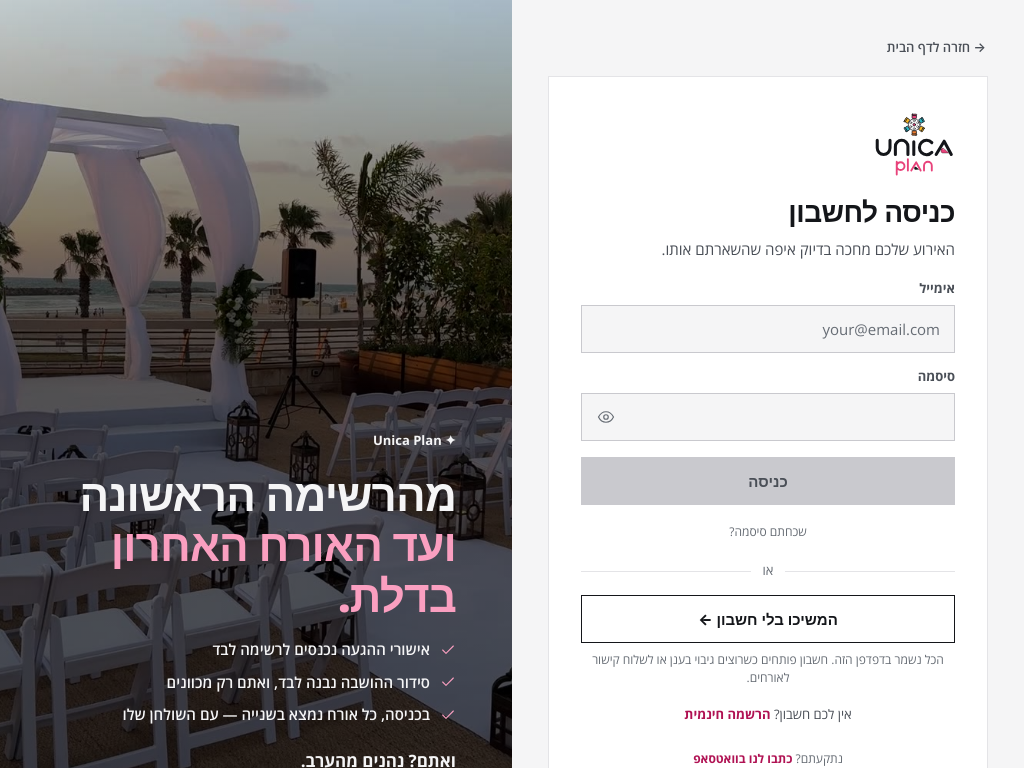
Scenario: LoginScreen errors (37b) › forgot-password rate limit: Hebrew, not GoTrue's English
The width and height of the screenshot is (1024, 768).
Click the button "שכחתם סיסמה?" at (768, 532), box [581,523,955,541]
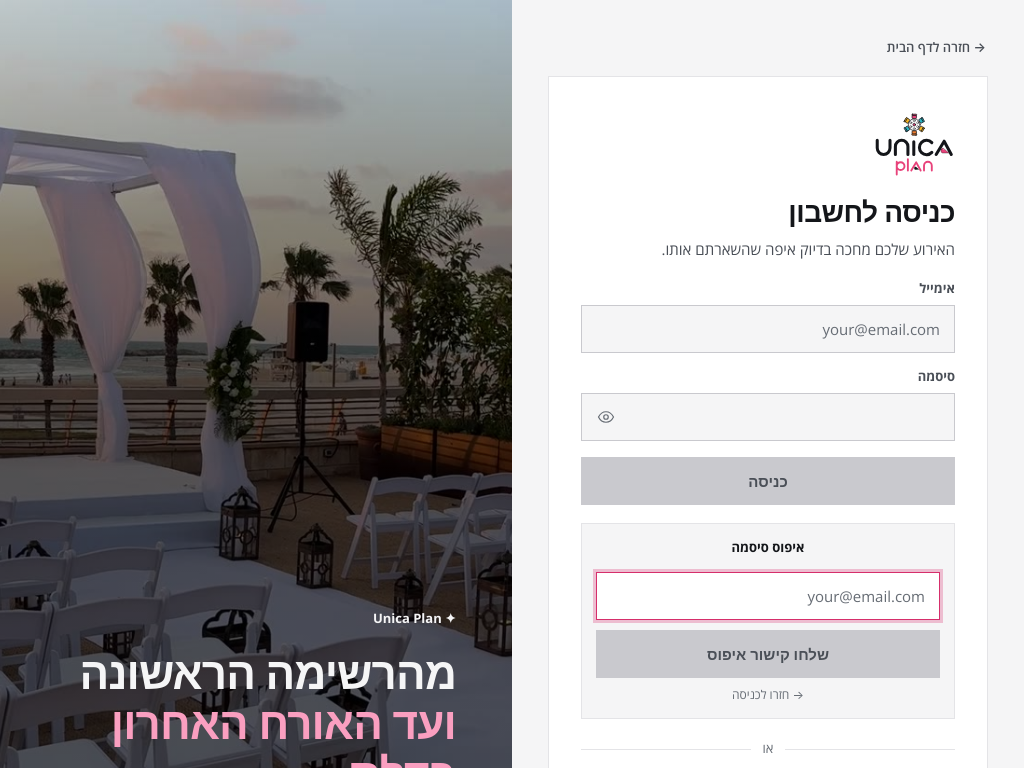
Type "a@b.co" into the field with placeholder "your@email.com" at (768, 596), box [596,572,940,620]
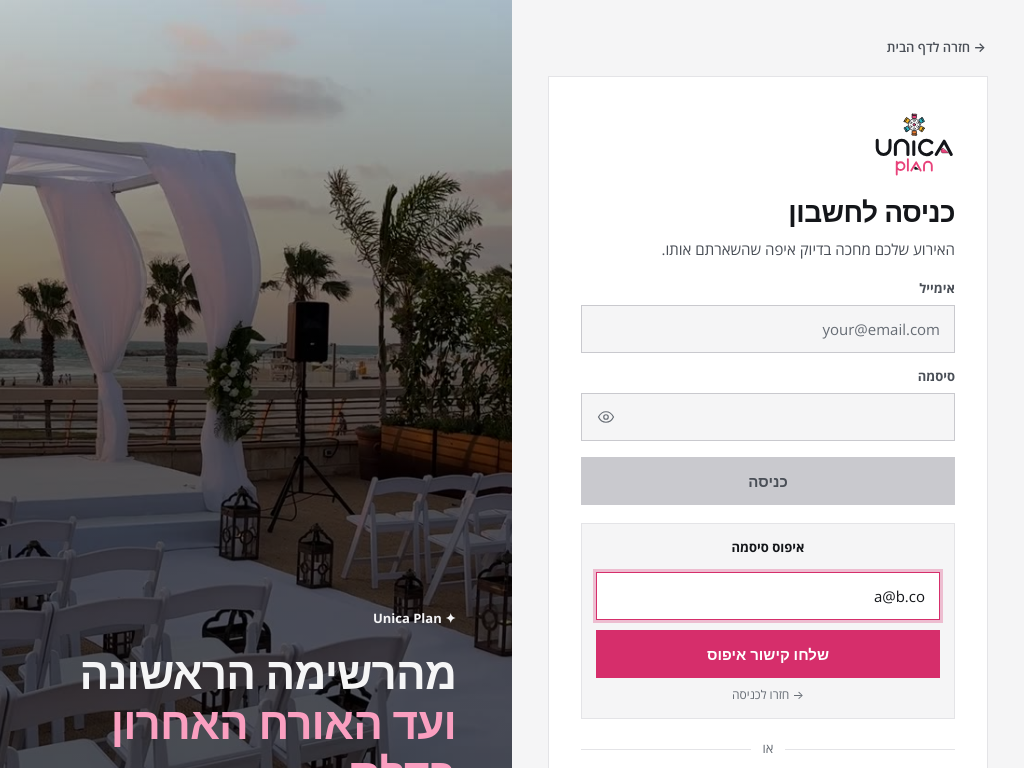
Submit the text "איפוס סיסמה", box [581,523,955,719]
(page scrolled)
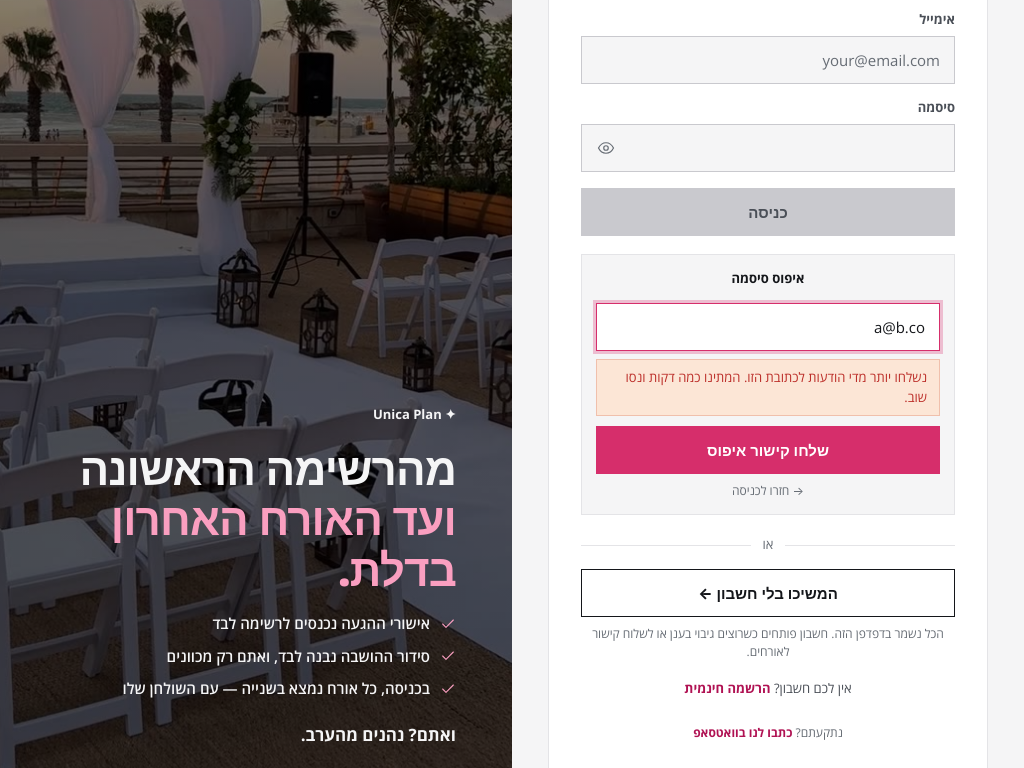
Result: the text "איפוס סיסמה" shows "יותר מדי" at [626,368,927,406]
